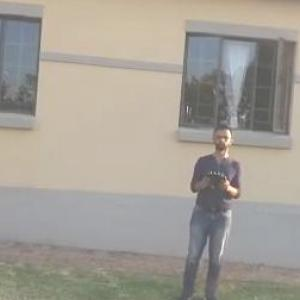follow: (171, 118, 243, 299)
